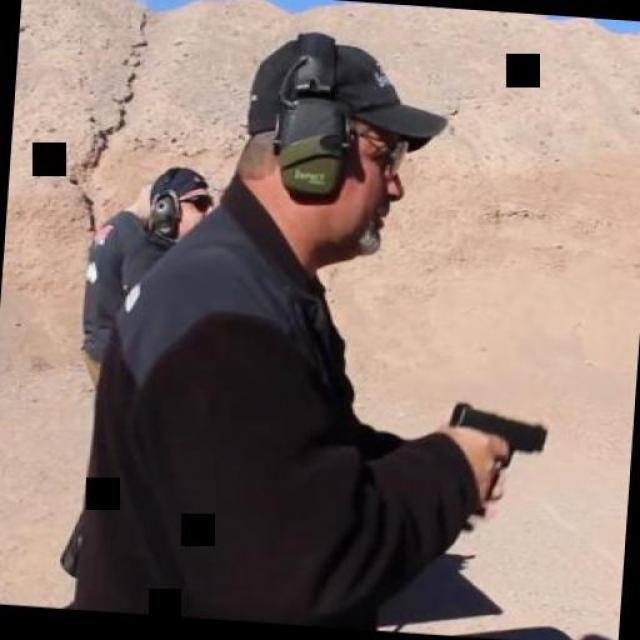gun: (438, 397, 552, 515)
